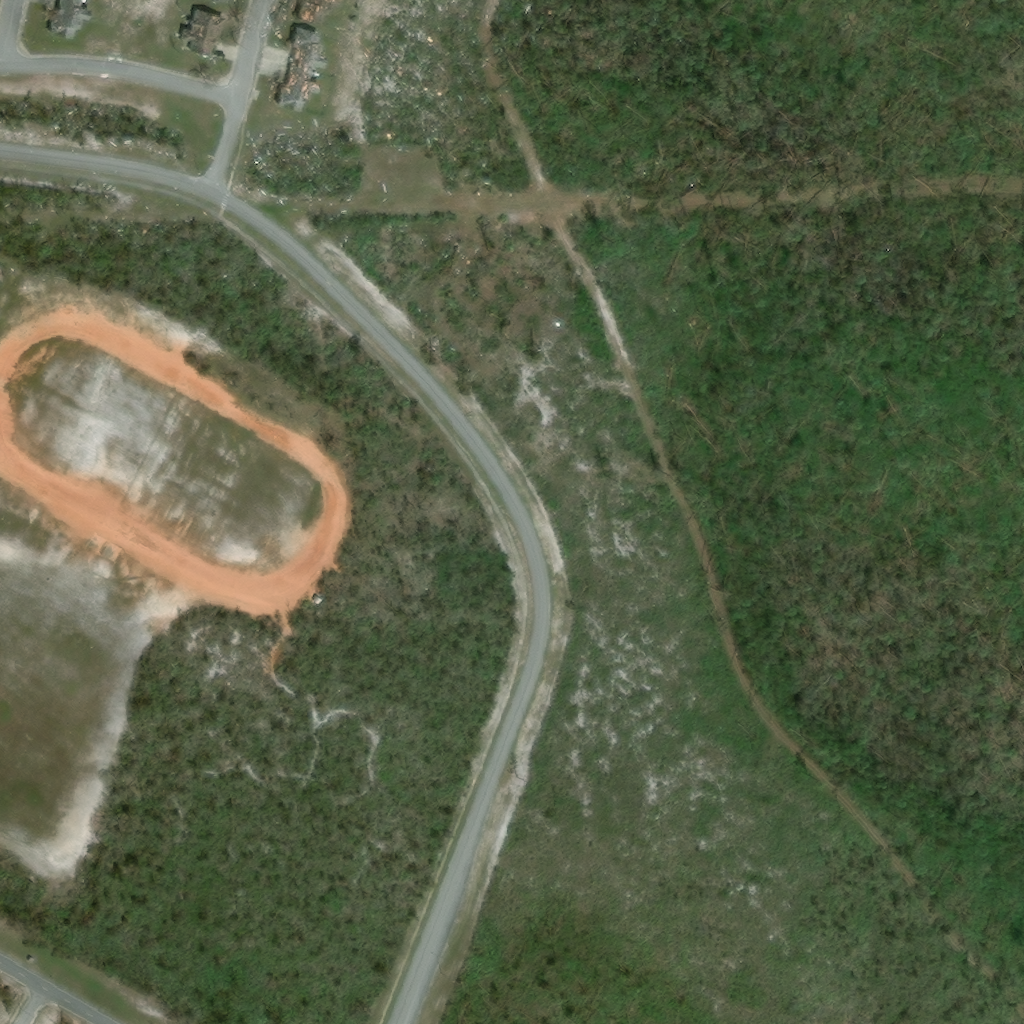major_damage: (273, 26, 328, 109), (297, 0, 341, 24)
minor_damage: (180, 10, 224, 58)
unclassified: (203, 0, 230, 11)
